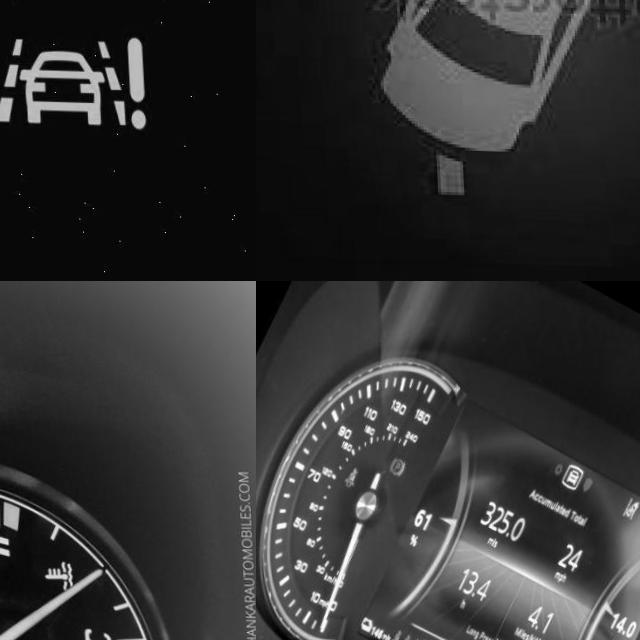Seat Belt: (340, 466, 358, 487), (386, 627, 397, 640), (395, 631, 407, 640)
